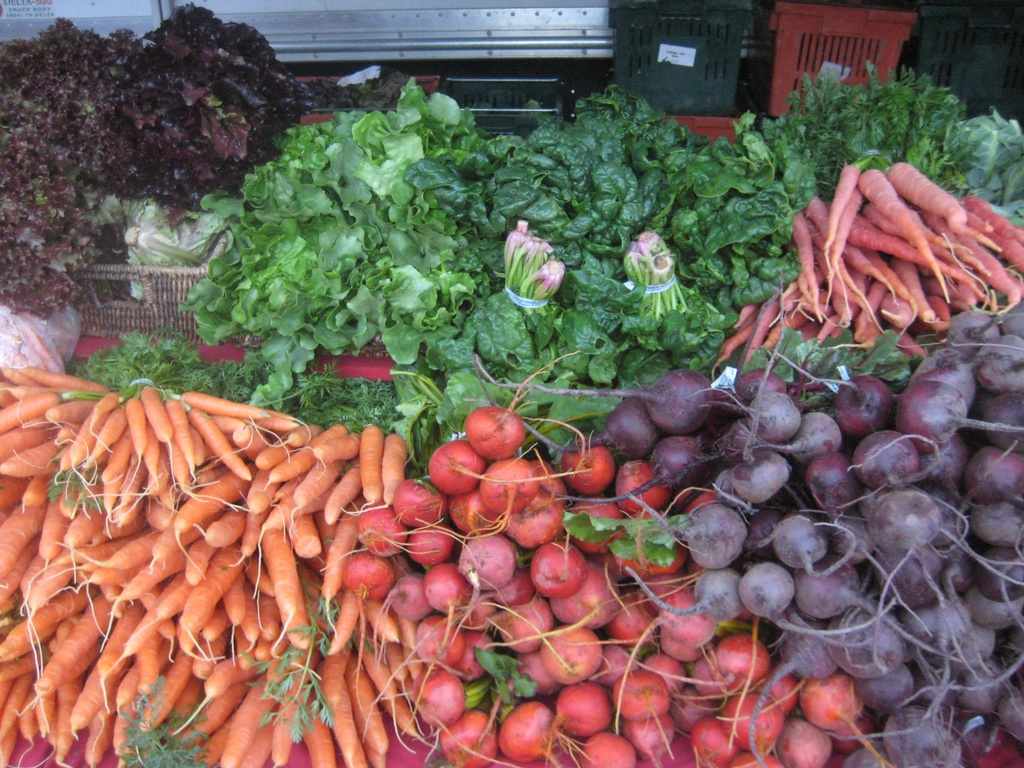Carrot: (0, 366, 421, 767), (714, 161, 1023, 373), (347, 422, 385, 520)
